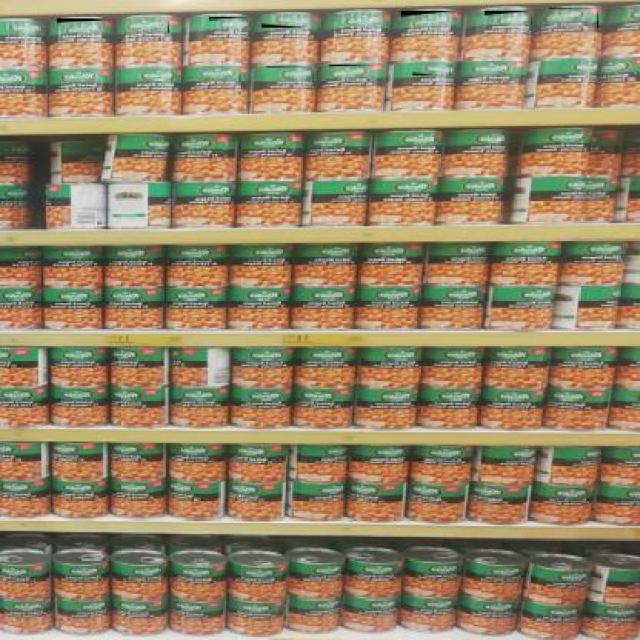Beans: (548, 8, 598, 30), (398, 12, 457, 30), (260, 14, 322, 29), (55, 18, 111, 34), (264, 66, 314, 83), (328, 65, 380, 80), (482, 11, 533, 26), (334, 14, 388, 28), (125, 18, 169, 34), (468, 60, 512, 75), (197, 68, 240, 82), (208, 17, 252, 29), (6, 21, 46, 34), (411, 65, 451, 77)
